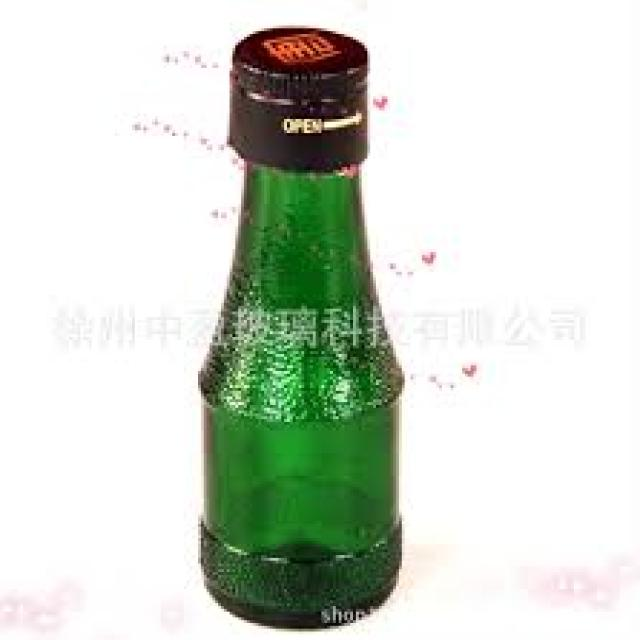Anorganik: (195, 161, 402, 626), (224, 22, 367, 162)
